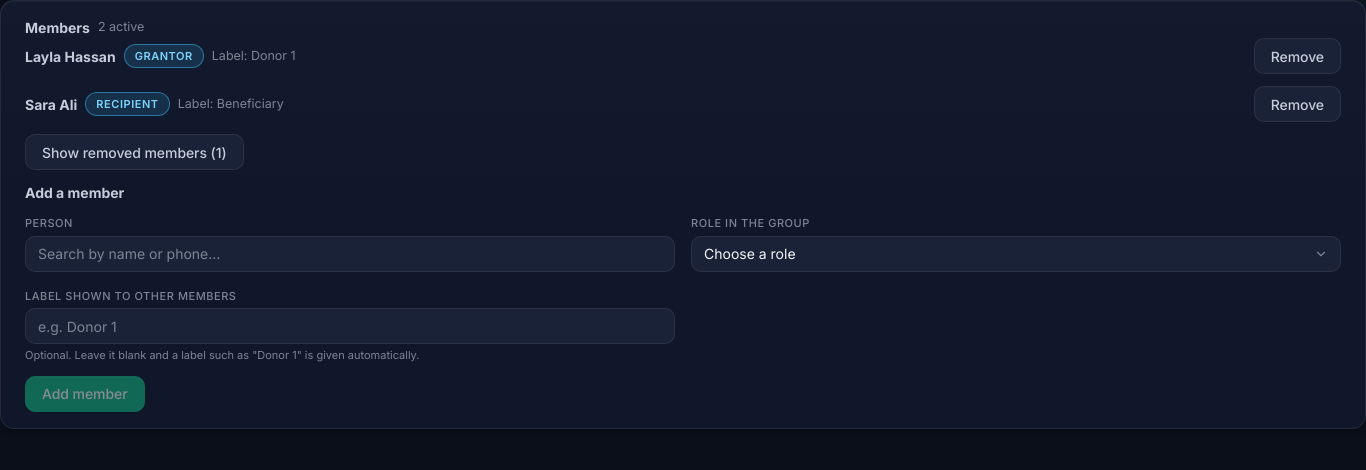
Test case: GroupRoster — the list › shows each active member's name, role and masked label, with removed members behind a toggle
Expected: the number of list items is 2, [25,38,1341,74]; [25,86,1341,122]
Expected: the text "Layla Hassan" is shown, [25,46,116,66]
Click the button "Show removed members (1)" at (134, 152), box [25,134,244,170]
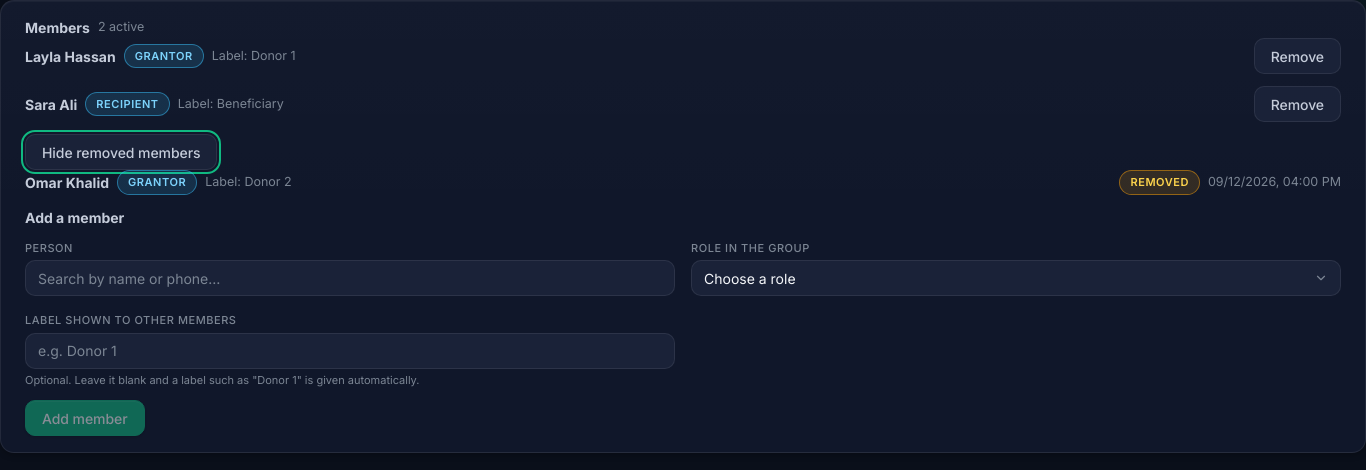
Expected: the text "Omar Khalid" is shown, [25,172,109,193]
Expected: the text "Removed" is shown, [1120,170,1200,194]
